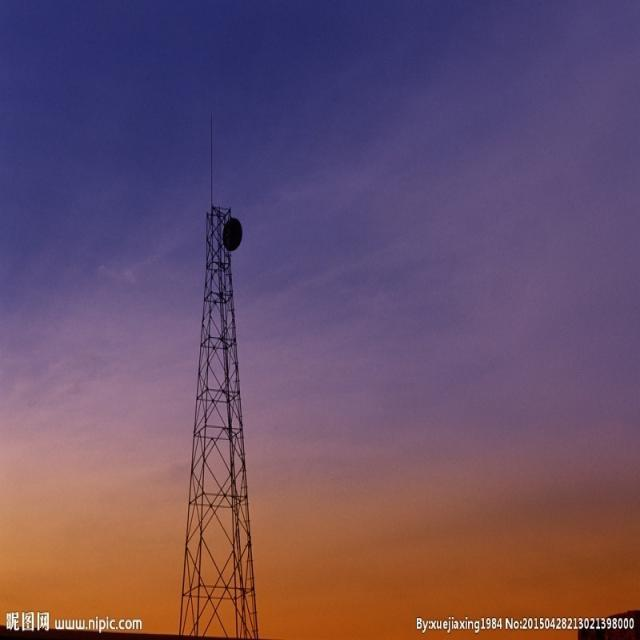non-critical vegetation: (172, 180, 255, 632)
